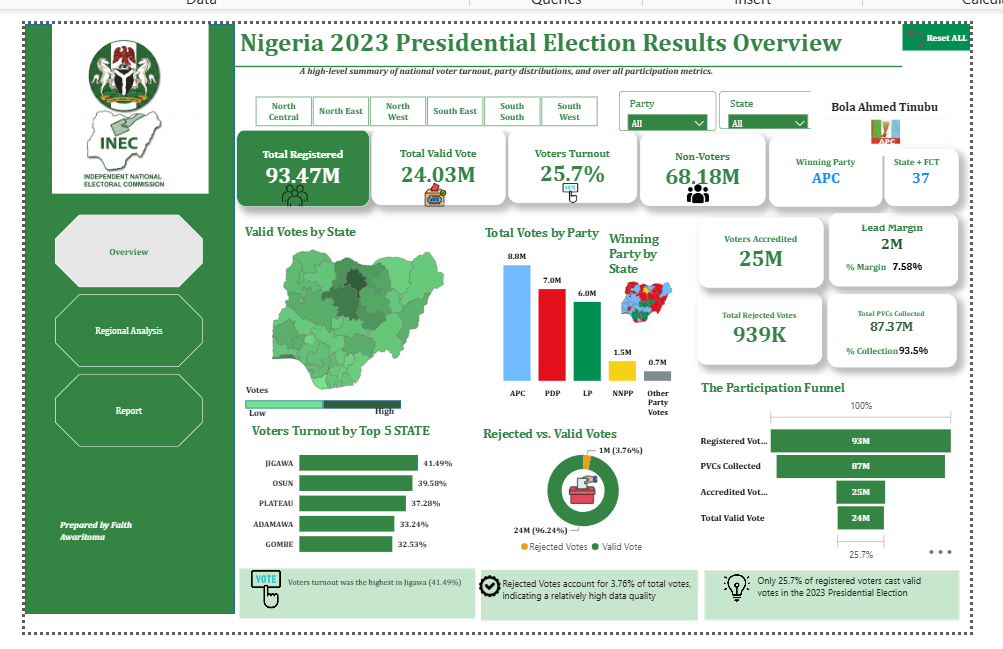

This screenshot's page, from the dashboard's own definition file:
{"tool":"powerbi","page":{"name":"Overview","canvas":[1400,900],"ordinal":0},"visuals":[{"type":"cardVisual","fields":{"Data":["Fact_Results.Total State + FCT"]},"box":[1274.1,185.2,109.9,85.2],"z":0,"group":"g4"},{"type":"shape","box":[1192.2,279.8,191.2,108.8],"z":0,"group":"g1"},{"type":"shapeMap","title":"Valid Votes  by State","fields":{"Category":["presidential-elections-results.STATE"],"Value":["Sum(Fact_Results.Total Valid Vote)"]},"box":[319.2,295.7,346.8,261.8],"z":0,"group":"g7"},{"type":"cardVisual","title":"Non-Voters","fields":{"Data":["Sum(PVC_Collected.PVCs Collected)"]},"box":[1202.2,402.1,162.5,76.2],"z":0,"group":"g2"},{"type":"shape","box":[1000,527.2,396.3,353.1],"z":0},{"type":"textbox","box":[1284,190.1,87.7,29.6],"z":1000,"group":"g4"},{"type":"shape","box":[1189.4,400,191.5,108.5],"z":1000,"group":"g3"},{"type":"cardVisual","title":"Non-Voters","fields":{"Data":["Fact_Results.% PVC Collected"]},"box":[1258.6,457.5,117.2,49.5],"z":1000,"group":"g2"},{"type":"shape","box":[326.4,558.7,115,11.7],"z":1000,"group":"g7"},{"type":"shape","box":[675.3,588.9,318.5,291.4],"z":1000},{"type":"textbox","box":[1211,469.6,98.8,32.5],"z":2000,"group":"g2"},{"type":"shape","box":[441.4,558.7,115,11.7],"z":2000,"group":"g7"},{"type":"shape","box":[674.7,808,321.3,74.7],"z":2000},{"type":"textbox","box":[321.1,527.2,79.2,32.6],"z":3000,"group":"g7"},{"type":"shape","box":[316,588.9,358,291.4],"z":3000},{"type":"shape","box":[0,0,311.1,874.1],"z":4000},{"type":"textbox","box":[326.7,560,58.3,33.3],"z":4000,"group":"g7"},{"type":"shape","box":[304.9,0,995.1,125.9],"z":5000},{"type":"textbox","box":[312.8,0,961.7,63.8],"z":6000},{"type":"textbox","box":[512.7,558.9,61.6,32.6],"z":6000,"group":"g7"},{"type":"image","title":"INEC logo","box":[0,0,312,251],"z":7000},{"type":"cardVisual","title":"Total Registered","fields":{"Data":["Dim_State.Total Registered"]},"box":[312.5,156.2,197.5,115],"z":8000},{"type":"clusteredColumnChart","title":"Total Votes by  Party","fields":{"Category":["presidential-elections-results.Party"],"Y":["Sum(Fact_Results.Total Valid Vote)"]},"box":[674.5,297.9,308.5,291.5],"z":8000,"group":"g5"},{"type":"cardVisual","title":"Valid Vote Cast","fields":{"Data":["Sum(Fact_Results.Total Valid Vote)"]},"box":[512.5,156.2,198.8,112.5],"z":9000},{"type":"cardVisual","title":"Voters Tuenout","fields":{"Data":["presidential-elections-results.Voters Turnout"]},"box":[715,157.5,191.2,107.5],"z":10000},{"type":"cardVisual","title":"Non-Voters","fields":{"Data":["Dim_State.Non-Voters"]},"box":[910,161.2,186.2,107.5],"z":11000},{"type":"textbox","box":[310.7,53.3,804,32],"z":12000},{"type":"cardVisual","fields":{"Data":["presidential-elections-results.Lead Margin"]},"box":[1202.8,280.1,165,71.2],"z":12000,"group":"g1"},{"type":"slicer","fields":{"Values":["presidential-elections-results- (2).Party"]},"box":[880,100,144,58],"z":13000},{"type":"cardVisual","fields":{"Data":["presidential-elections-results.Lead Margin %"]},"box":[1257.7,331.5,103,54.5],"z":13000,"group":"g1"},{"type":"slicer","fields":{"Values":["presidential-elections-results- (2).STATE"]},"box":[1028,100,144,55],"z":14000},{"type":"slicer","fields":{"Values":["Dim_State.Region"]},"box":[313,98.7,561,59.7],"z":15000},{"type":"cardVisual","fields":{"Data":["presidential-elections-results.Winning Party"]},"box":[1102.1,166,168.1,104.3],"z":16000},{"type":"pageNavigator","box":[44.7,283,219.1,346.8],"z":17000},{"type":"cardVisual","title":"Non-Voters","fields":{"Data":["Dim_State.Total Rejected Votes"]},"box":[995.7,397.9,185.1,106.4],"z":18000},{"type":"cardVisual","title":"Non-Voters","fields":{"Data":["Dim_State.Voters Accredited"]},"box":[997.9,287.2,185.1,104.3],"z":19000},{"type":"group","id":"g1","title":"Group 2","box":[1192.2,279.8,191.2,108.8],"z":20000},{"type":"group","id":"g2","title":"Group 3","box":[1202.2,402.1,173.6,104.9],"z":21000,"group":"g3"},{"type":"funnel","title":"The Participation Funnel","fields":{"Y":["Sum(Dim_State.Registered Voters)","Sum(PVC_Collected.PVCs Collected)","Sum(Dim_State.Accredited Voters)","Sum(Fact_Results.Total Valid Vote)"]},"box":[994.6,526.8,385.7,273.2],"z":21000},{"type":"clusteredBarChart","title":"Voters Turnout by Top 5 STATE","fields":{"Category":["Dim_State.STATE"],"Y":["Fact_Results.Voters Turnout"]},"box":[331.9,591.5,334,208.5],"z":22000},{"type":"donutChart","title":"Rejected vs. Valid Votes","fields":{"Y":["Sum(Dim_State.Rejected Votes)","Sum(Fact_Results.Total Valid Vote)"]},"box":[674.5,595.7,306.4,197.9],"z":22000,"group":"g6"},{"type":"textbox","box":[46.4,726.8,183.9,48.2],"z":23000},{"type":"group","id":"g3","title":"Group 5","box":[1189.4,400,191.5,108.5],"z":24000},{"type":"cardVisual","fields":{"Data":["Fact_Results.Candidate Name"]},"box":[1165,85,219,111],"z":25000},{"type":"textbox","box":[1212.8,344.8,82.5,38.8],"z":25000,"group":"g1"},{"type":"image","box":[365.4,234.6,70.4,37],"z":26000},{"type":"image","box":[960.5,234.6,74.1,32.1],"z":27000},{"type":"image","box":[582.7,235.8,51.9,34.6],"z":28000},{"type":"image","box":[772.8,235.8,69.1,29.6],"z":29000},{"type":"group","id":"g4","title":"Group 4","box":[1274.1,185.2,109.9,85.2],"z":30000},{"type":"group","id":"g5","title":"Group 8","box":[674.5,297.9,308.5,291.5],"z":30001,"group":"g8"},{"type":"shapeMap","title":"Winning Party by State","fields":{"Category":["Dim_State.STATE"],"Series":["Dim_State.Winning Partys"],"Value":["Sum(Fact_Results.Total Valid Vote)"]},"box":[859.4,307.8,121.9,143.8],"z":30001,"group":"g5"},{"type":"group","id":"g6","title":"Group 6","box":[667.8,595.7,313.1,254.6],"z":31000},{"type":"actionButton","box":[1300,0,100,39.4],"z":32000},{"type":"image","box":[791.4,668.8,71,41.9],"z":32001,"group":"g6"},{"type":"group","id":"g7","title":"Group 1","box":[319.2,295.7,346.8,297.6],"z":33000},{"type":"group","id":"g8","title":"Group 7","box":[674.5,297.9,308.5,291.5],"z":34000},{"type":"shape","box":[317.3,806.2,349.4,74.1],"z":35000},{"type":"textbox","box":[384.8,812.1,273.7,48.5],"z":36000},{"type":"image","box":[333.3,808.6,46.9,56.8],"z":37000},{"type":"textbox","box":[701.2,812.3,292.6,48.1],"z":38000},{"type":"image","box":[667.8,815.8,44.4,34.6],"z":38001,"group":"g6"},{"type":"shape","box":[1006.7,808,377.3,74.7],"z":39000},{"type":"textbox","box":[1079,808.6,279,51.9],"z":40000},{"type":"image","box":[1034.6,813.6,38.3,44.4],"z":41000}]}

Visuals, with their boxes on the page's 1400x900 design canvas (x1, y1, x2, y2). These are canvas units, not pixel positions in the 1003x649 screenshot, which may show the page scaled, cropped or inside an application window:
cardVisual - Fact_Results.Total State + FCT: box=[1274, 185, 1384, 270]
shape: box=[1192, 280, 1383, 389]
"Valid Votes  by State" shapeMap: box=[319, 296, 666, 558]
"Non-Voters" cardVisual: box=[1202, 402, 1365, 478]
shape: box=[1000, 527, 1396, 880]
textbox: box=[1284, 190, 1372, 220]
shape: box=[1189, 400, 1381, 508]
"Non-Voters" cardVisual: box=[1259, 458, 1376, 507]
shape: box=[326, 559, 441, 570]
shape: box=[675, 589, 994, 880]
textbox: box=[1211, 470, 1310, 502]
shape: box=[441, 559, 556, 570]
shape: box=[675, 808, 996, 883]
textbox: box=[321, 527, 400, 560]
shape: box=[316, 589, 674, 880]
shape: box=[0, 0, 311, 874]
textbox: box=[327, 560, 385, 593]
shape: box=[305, 0, 1300, 126]
textbox: box=[313, 0, 1274, 64]
textbox: box=[513, 559, 574, 592]
"INEC logo" image: box=[0, 0, 312, 251]
"Total Registered" cardVisual: box=[312, 156, 510, 271]
"Total Votes by  Party" clusteredColumnChart: box=[674, 298, 983, 589]
"Valid Vote Cast" cardVisual: box=[512, 156, 711, 269]
"Voters Tuenout" cardVisual: box=[715, 158, 906, 265]
"Non-Voters" cardVisual: box=[910, 161, 1096, 269]
textbox: box=[311, 53, 1115, 85]
cardVisual - presidential-elections-results.Lead Margin: box=[1203, 280, 1368, 351]
slicer - presidential-elections-results- (2).Party: box=[880, 100, 1024, 158]
cardVisual - presidential-elections-results.Lead Margin %: box=[1258, 332, 1361, 386]
slicer - presidential-elections-results- (2).STATE: box=[1028, 100, 1172, 155]
slicer - Dim_State.Region: box=[313, 99, 874, 158]
cardVisual - presidential-elections-results.Winning Party: box=[1102, 166, 1270, 270]
pageNavigator: box=[45, 283, 264, 630]
"Non-Voters" cardVisual: box=[996, 398, 1181, 504]
"Non-Voters" cardVisual: box=[998, 287, 1183, 392]
"Group 2" group: box=[1192, 280, 1383, 389]
"Group 3" group: box=[1202, 402, 1376, 507]
"The Participation Funnel" funnel: box=[995, 527, 1380, 800]
"Voters Turnout by Top 5 STATE" clusteredBarChart: box=[332, 592, 666, 800]
"Rejected vs. Valid Votes" donutChart: box=[674, 596, 981, 794]
textbox: box=[46, 727, 230, 775]
"Group 5" group: box=[1189, 400, 1381, 508]
cardVisual - Fact_Results.Candidate Name: box=[1165, 85, 1384, 196]
textbox: box=[1213, 345, 1295, 384]
image: box=[365, 235, 436, 272]
image: box=[960, 235, 1035, 267]
image: box=[583, 236, 635, 270]
image: box=[773, 236, 842, 265]
"Group 4" group: box=[1274, 185, 1384, 270]
"Group 8" group: box=[674, 298, 983, 589]
"Winning Party by State" shapeMap: box=[859, 308, 981, 452]
"Group 6" group: box=[668, 596, 981, 850]
actionButton: box=[1300, 0, 1400, 39]
image: box=[791, 669, 862, 711]
"Group 1" group: box=[319, 296, 666, 593]
"Group 7" group: box=[674, 298, 983, 589]
shape: box=[317, 806, 667, 880]
textbox: box=[385, 812, 658, 861]
image: box=[333, 809, 380, 865]
textbox: box=[701, 812, 994, 860]
image: box=[668, 816, 712, 850]
shape: box=[1007, 808, 1384, 883]
textbox: box=[1079, 809, 1358, 860]
image: box=[1035, 814, 1073, 858]
